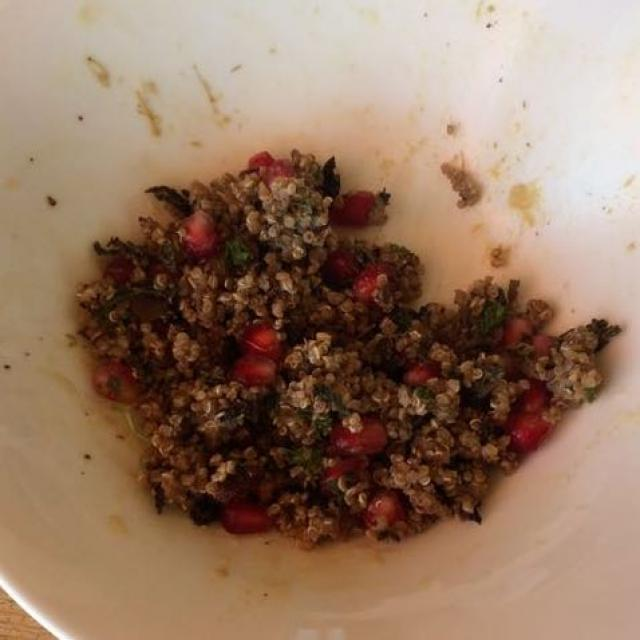pomegranate: (167, 144, 564, 549)
quinoa: (82, 155, 594, 538)
